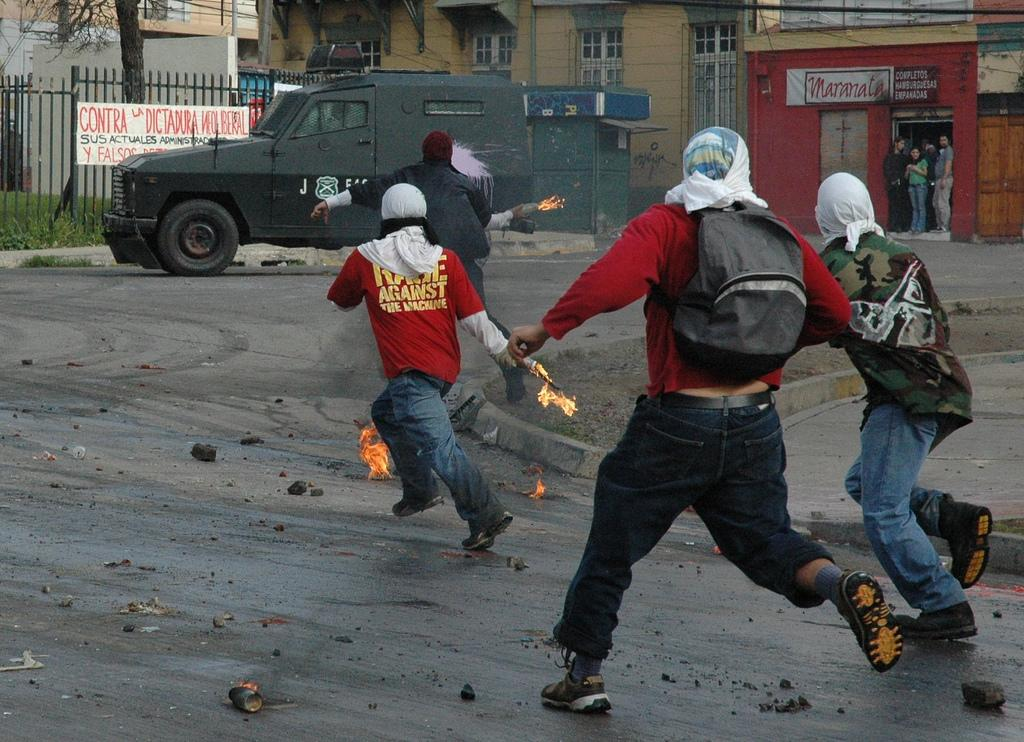fire: (542, 388, 580, 416), (370, 436, 392, 484)
